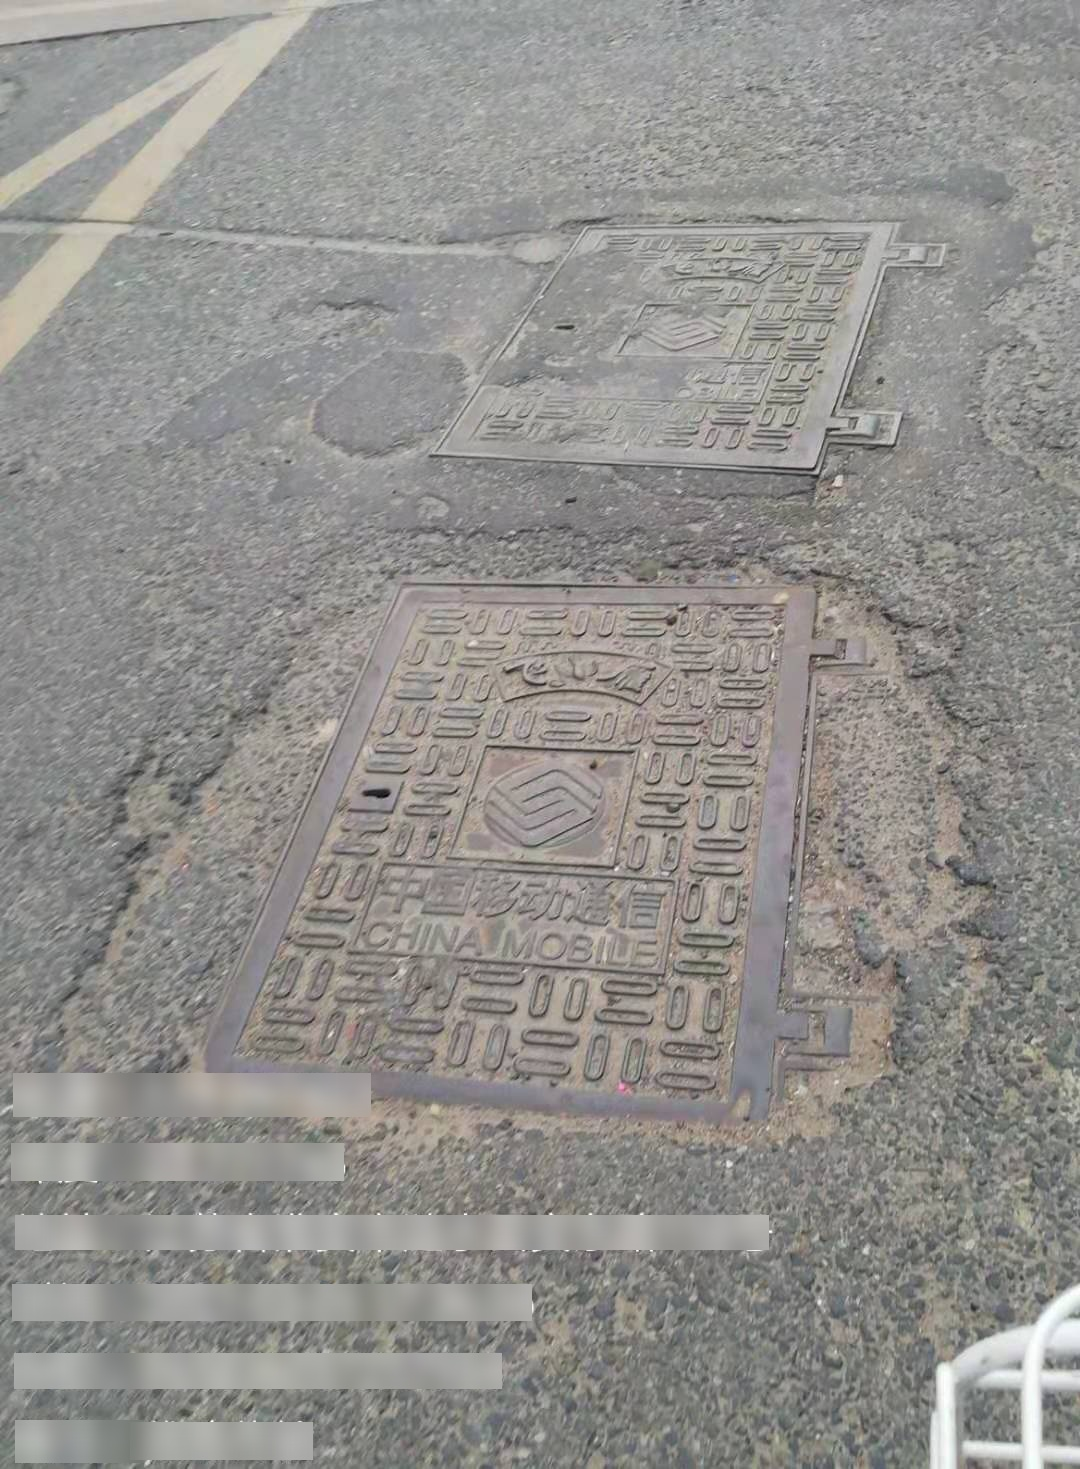good: (194, 578, 871, 1120), (435, 227, 950, 474)
